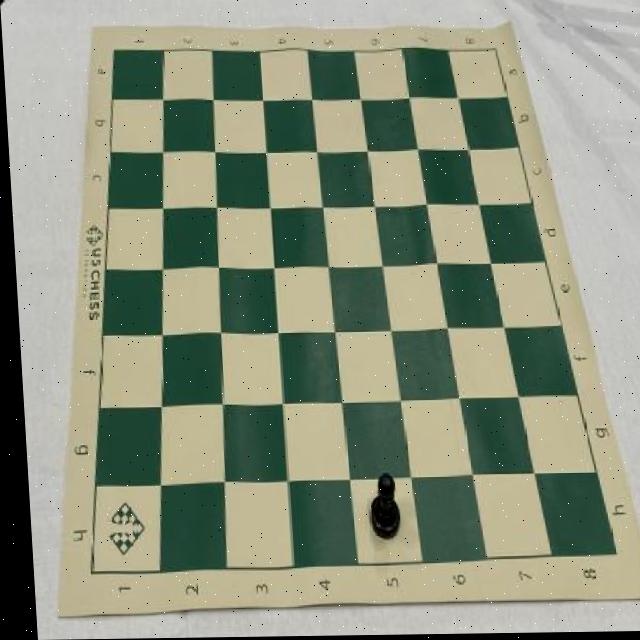black-knight: (359, 474, 395, 543)
